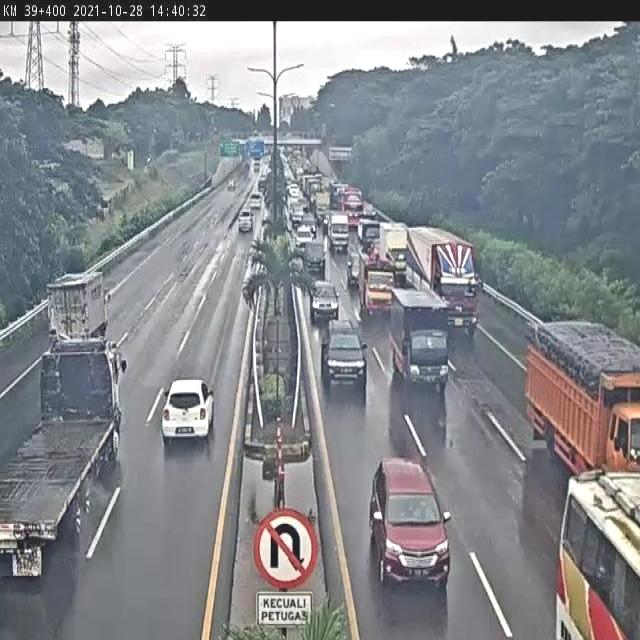Bus: (552, 466, 640, 640)
Car: (365, 453, 452, 597), (160, 375, 217, 445), (322, 318, 368, 396), (309, 279, 341, 322), (306, 242, 326, 276), (295, 228, 314, 251), (237, 210, 254, 231), (301, 214, 317, 234), (249, 193, 263, 210)
Truck: (0, 341, 129, 583), (519, 312, 640, 470), (404, 227, 478, 333), (391, 287, 449, 391), (46, 267, 111, 344), (359, 253, 393, 312), (380, 222, 408, 278), (332, 185, 364, 224), (327, 214, 350, 252), (358, 218, 380, 246)
